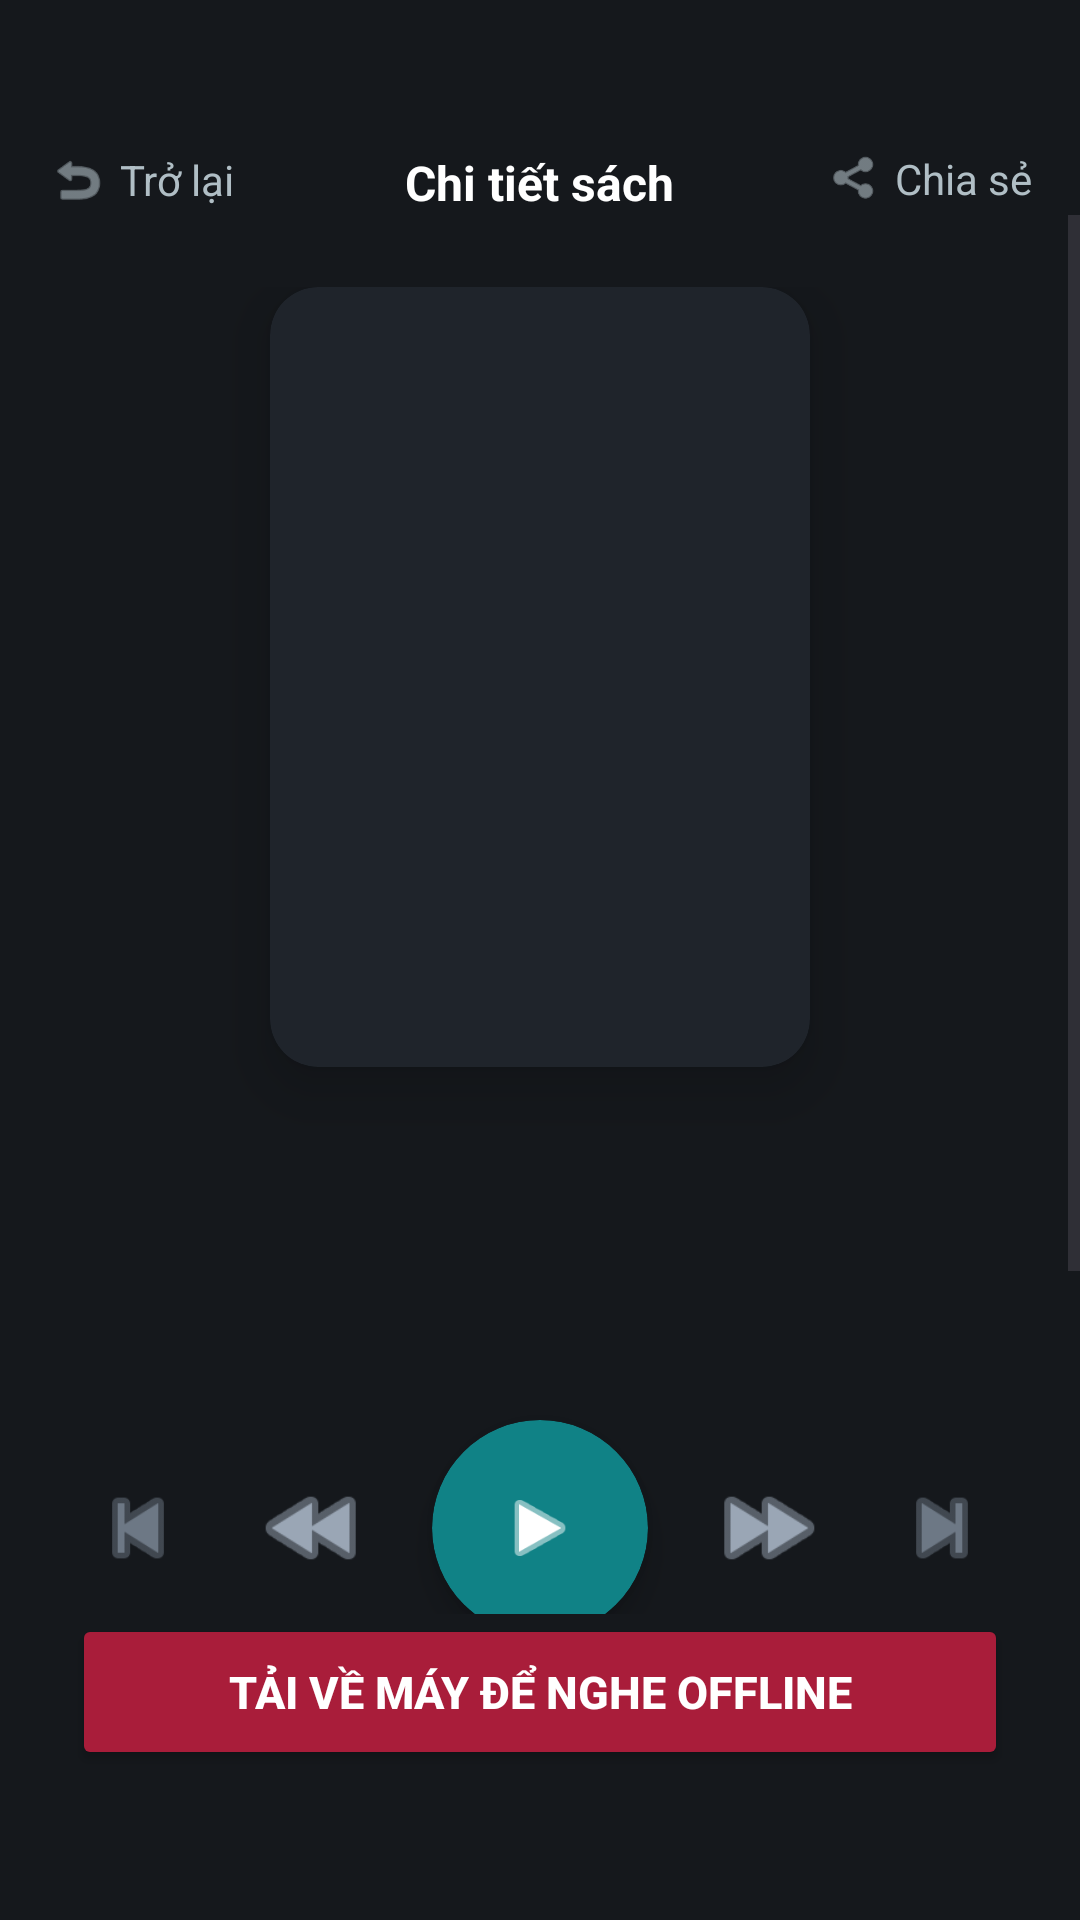

Where icons sit on this 1080 x 1920 app screen, as detection(x1, y1, x2, y2):
next: detection(916, 1498, 968, 1558)
play: detection(514, 1500, 566, 1556)
previous: detection(112, 1498, 164, 1558)
revert: detection(57, 161, 100, 200)
rew: detection(266, 1497, 356, 1559)
share: detection(833, 157, 873, 199)
